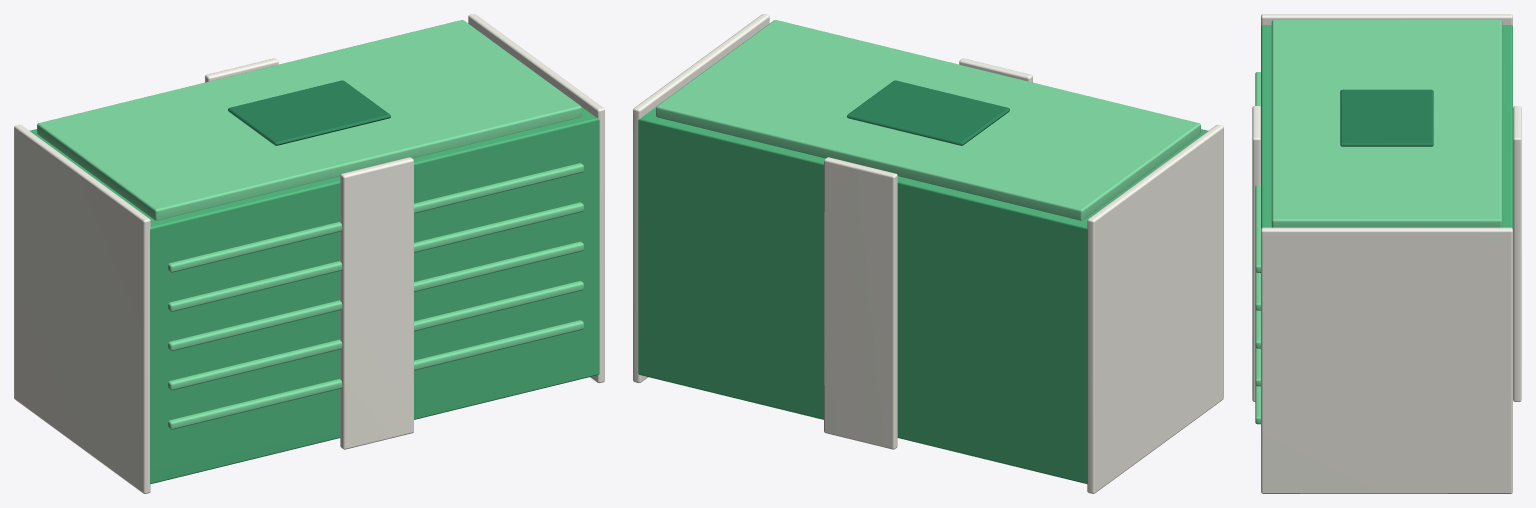
File: cash_stack.glb
The picture shows the model from 3 angles, left to right: view 1: azimuth 30°, elevation 25°; view 2: azimuth 150°, elevation 25°; view 3: azimuth 270°, elevation 25°; orthographic projection. The views are drawn at different scales.
Visible parts, largest first — view 1: CashStack; view 2: CashStack; view 3: CashStack.
Part boxes in pixels (box(x1,y1,x2,y2)): CashStack: box(14, 14, 604, 493); CashStack: box(633, 14, 1223, 493); CashStack: box(1252, 14, 1521, 493).
Size of the model in its own units: 0.714 by 0.4135 by 0.374.
